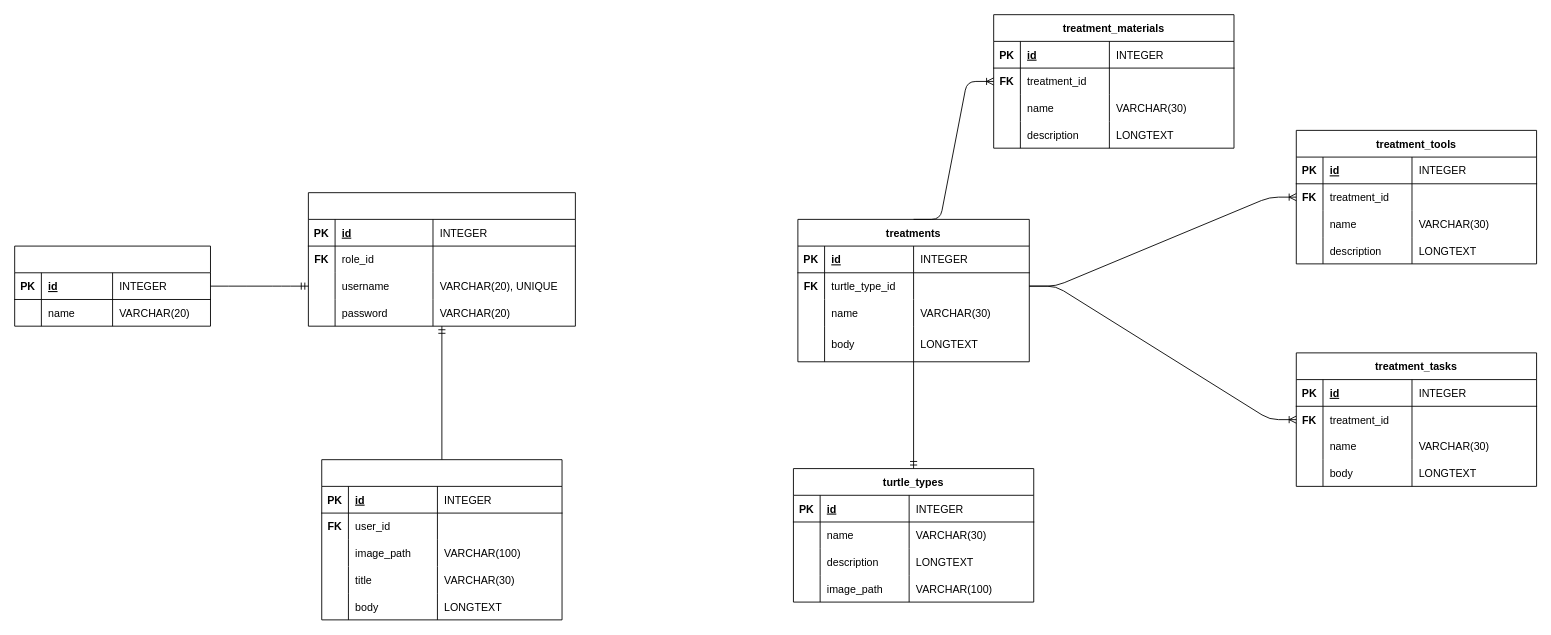
Some shapes in this 1551 by 635 pixel diagram are drawn without their labels. The shapes that lost their labels are listed below. From the top down, each one's box as (x1, y1, x2, y2) in pixels, then its label:
(307, 192, 575, 326): users
(14, 245, 210, 326): roles
(321, 459, 562, 620): articles
